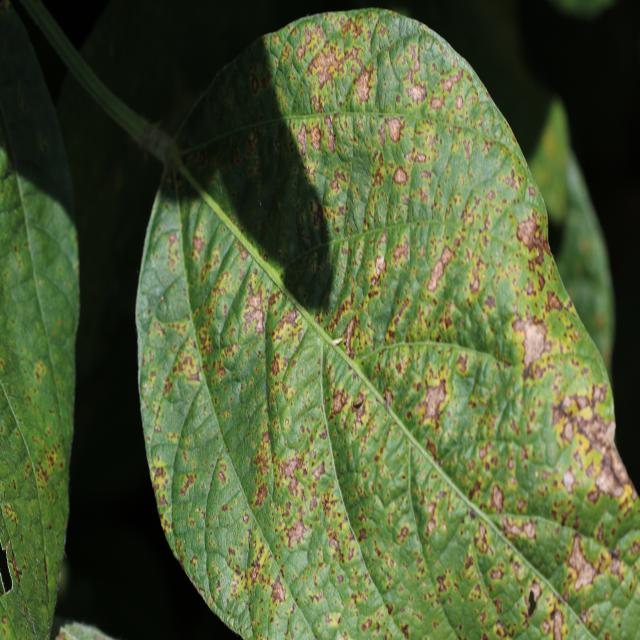Bacterial_Blight: (321, 507, 361, 573), (561, 382, 612, 427), (413, 364, 450, 426), (141, 118, 181, 171), (330, 112, 369, 165), (566, 535, 599, 590), (293, 23, 328, 70), (519, 319, 551, 369), (426, 244, 457, 292), (593, 458, 625, 498), (169, 347, 200, 385), (516, 215, 543, 251), (501, 515, 536, 540), (248, 550, 268, 589), (525, 580, 544, 621), (341, 316, 359, 357), (349, 396, 370, 430), (243, 288, 265, 320), (320, 490, 341, 523), (341, 15, 367, 41), (355, 68, 374, 103), (551, 401, 573, 430), (286, 519, 307, 547), (424, 499, 440, 535), (440, 71, 462, 95), (550, 605, 565, 640), (384, 117, 403, 143), (488, 484, 505, 513), (392, 239, 410, 266), (280, 308, 300, 331), (407, 82, 427, 104), (545, 289, 563, 313), (34, 459, 50, 486), (281, 456, 298, 481), (9, 550, 22, 582), (179, 474, 196, 498), (271, 577, 286, 604), (330, 391, 346, 416), (253, 481, 268, 507), (324, 120, 336, 152), (322, 610, 342, 629), (308, 124, 322, 151), (561, 468, 576, 493), (4, 501, 19, 526), (193, 581, 210, 603), (296, 123, 308, 154), (32, 360, 47, 384), (586, 484, 601, 506), (192, 232, 205, 257), (312, 461, 327, 482), (393, 166, 409, 185), (469, 270, 481, 295), (152, 465, 167, 485), (610, 555, 623, 578), (374, 254, 386, 276), (383, 387, 394, 409), (436, 573, 448, 593), (524, 277, 536, 296), (270, 356, 281, 376), (398, 525, 410, 542), (42, 554, 48, 587), (484, 294, 496, 310), (413, 151, 427, 163), (361, 618, 373, 632), (400, 623, 410, 639), (250, 76, 259, 93), (330, 177, 340, 192), (5, 540, 12, 557), (242, 512, 250, 525), (221, 503, 229, 513)
Soybean: (136, 10, 640, 640)
